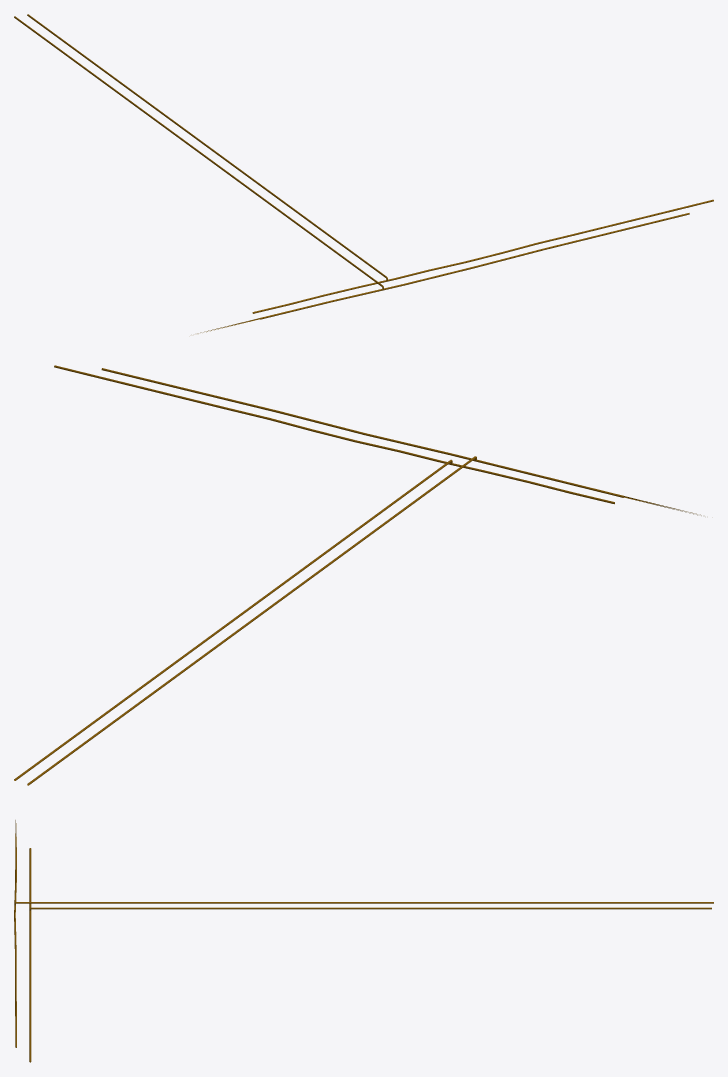
File: geo_basement_ceiling_copperPipes.fbx
The picture shows the model from 3 angles, top to bottom: view 1: azimuth 30°, elevation 25°; view 2: azimuth 150°, elevation 25°; view 3: azimuth 270°, elevation 25°; orthographic projection. The views are drawn at different scales.
Visible parts, largest first — view 1: geo_basement_ceiling_copperPipes:Copper_pipes; view 2: geo_basement_ceiling_copperPipes:Copper_pipes; view 3: geo_basement_ceiling_copperPipes:Copper_pipes.
Boxes of the visible parts, left/top/right/bottom form: geo_basement_ceiling_copperPipes:Copper_pipes: left=14, top=14, right=713, bottom=333; geo_basement_ceiling_copperPipes:Copper_pipes: left=14, top=365, right=701, bottom=785; geo_basement_ceiling_copperPipes:Copper_pipes: left=14, top=820, right=713, bottom=1062.
Size of the model in its own units: 670 by 6.22 by 801.
